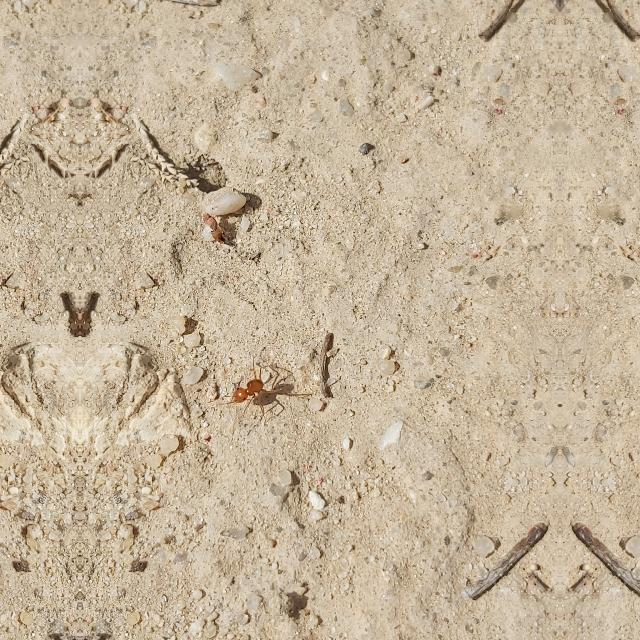Cataglyphis: (226, 358, 300, 418)
